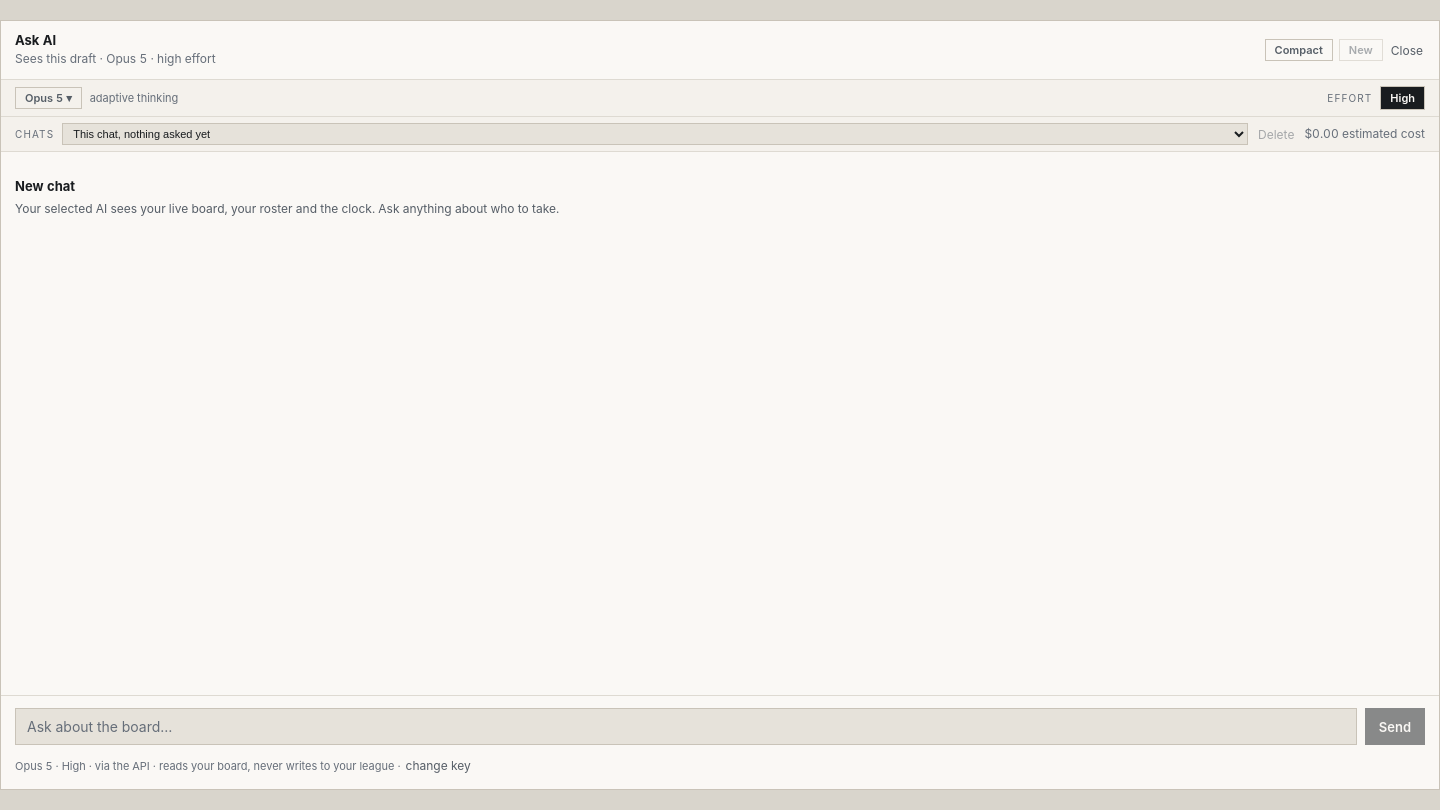
picking the shared thread › leaves the local conversations alone
Select "Shared with devices" in the dropdown named "Saved chats" at point(655, 134), box [62,123,1248,145]
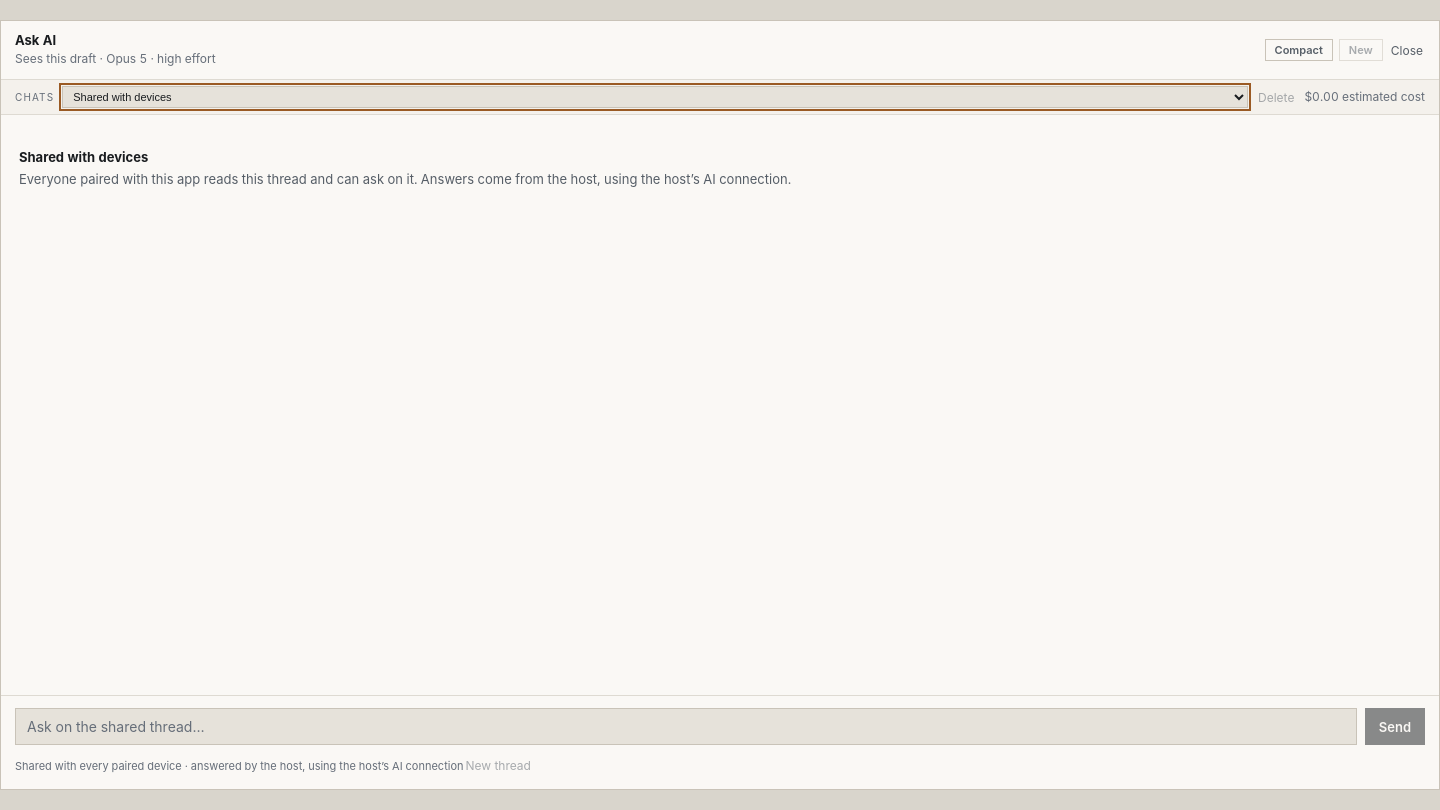
Select "This chat, nothing asked yet" in the dropdown named "Saved chats" at point(655, 97), box [62,86,1248,108]
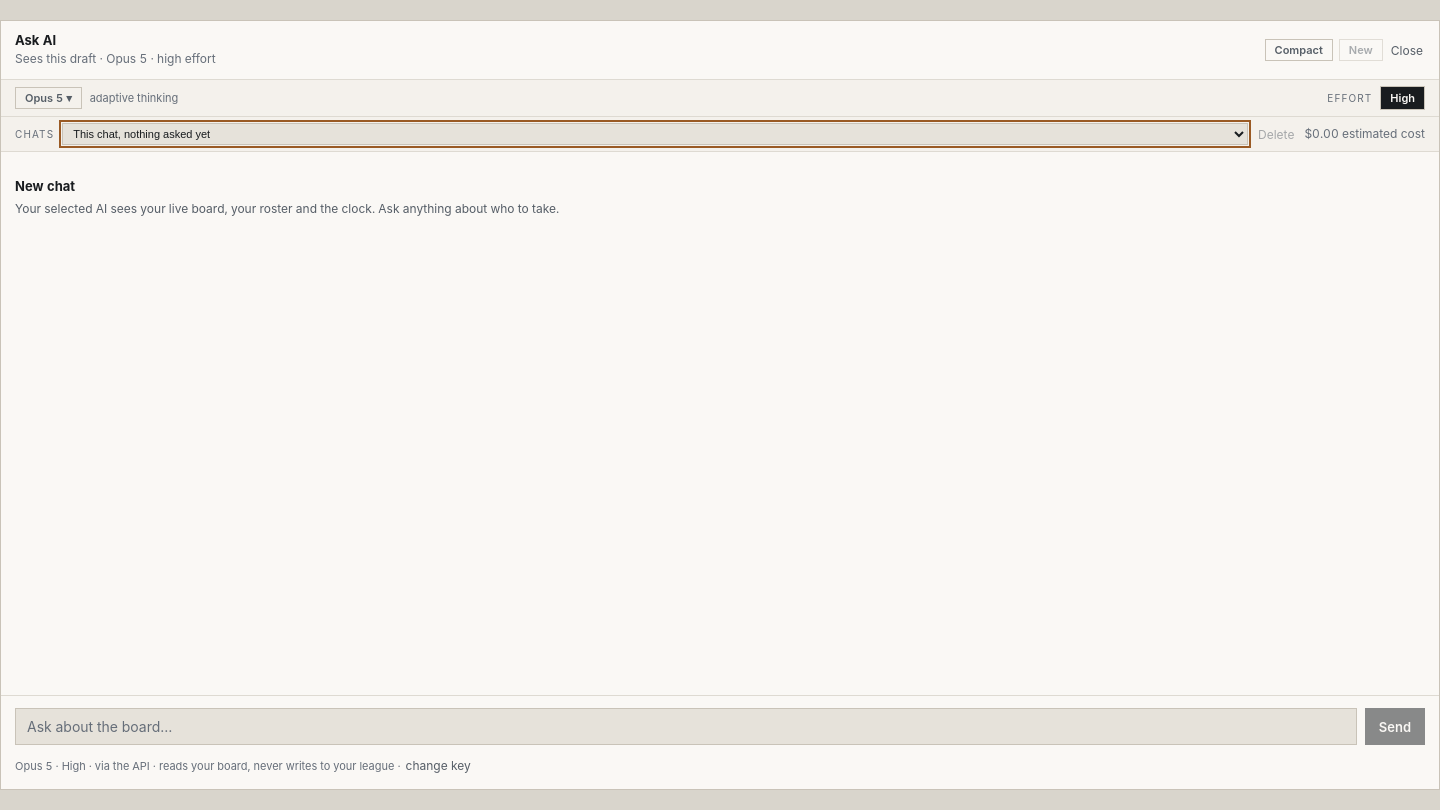
Now the field named "Ask AI" is shown, box [15,708,1357,745]
